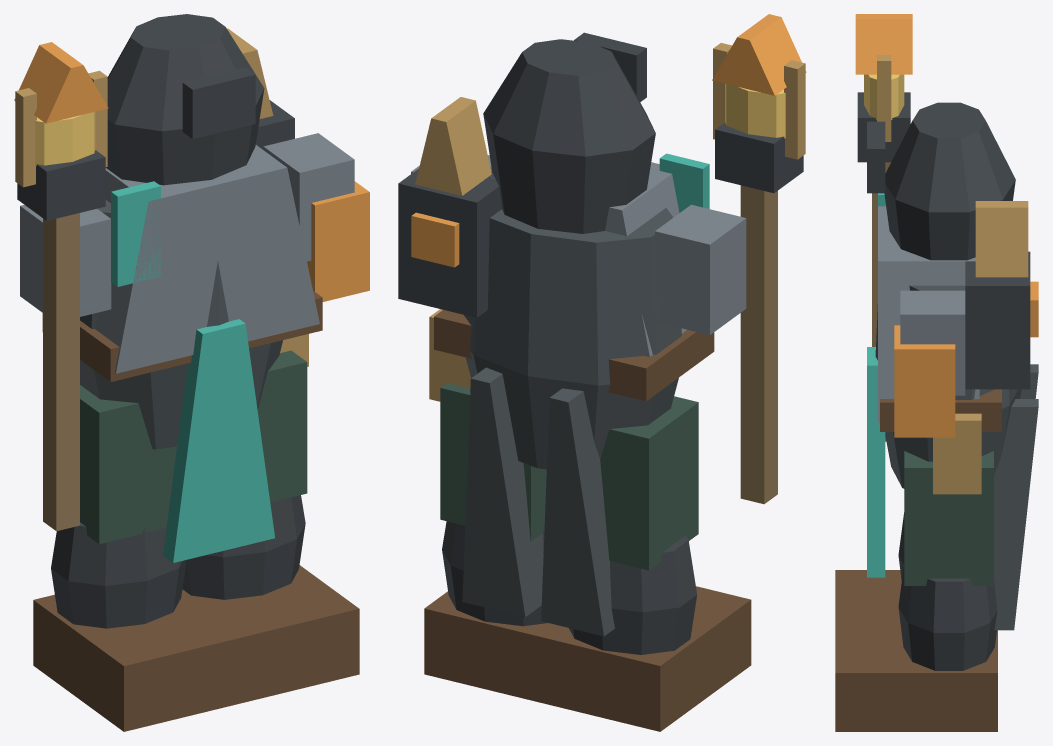
The model's file is unit-elementalist-fire.glb.
The picture shows the model from 3 angles, left to right: view 1: azimuth 30°, elevation 25°; view 2: azimuth 150°, elevation 25°; view 3: azimuth 270°, elevation 25°; orthographic projection. The views are drawn at different scales.
Parts seen in each view (by area): view 1: Body, LegL, LegR, Weapon; view 2: Body, LegL, Weapon, LegR; view 3: Body, LegR, Weapon, LegL.
Boxes of the visible parts, left/top/right/bottom form: Body: left=20, top=14, right=369, bottom=562; LegL: left=33, top=385, right=241, bottom=731; LegR: left=182, top=350, right=359, bottom=702; Weapon: left=14, top=42, right=108, bottom=531; Body: left=398, top=32, right=746, bottom=636; LegL: left=542, top=396, right=751, bottom=731; Weapon: left=712, top=14, right=806, bottom=504; LegR: left=424, top=383, right=558, bottom=702; Body: left=867, top=102, right=1038, bottom=630; LegR: left=835, top=451, right=997, bottom=731; Weapon: left=855, top=14, right=912, bottom=441; LegL: left=835, top=512, right=904, bottom=621.
Size of the model in its own units: 0.9075 by 1.62 by 0.5.
